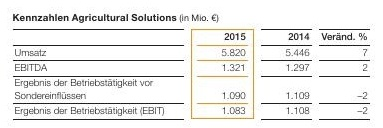table: (0, 0, 383, 128)
